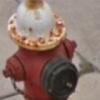a fire hydrant: (1, 0, 80, 100)
